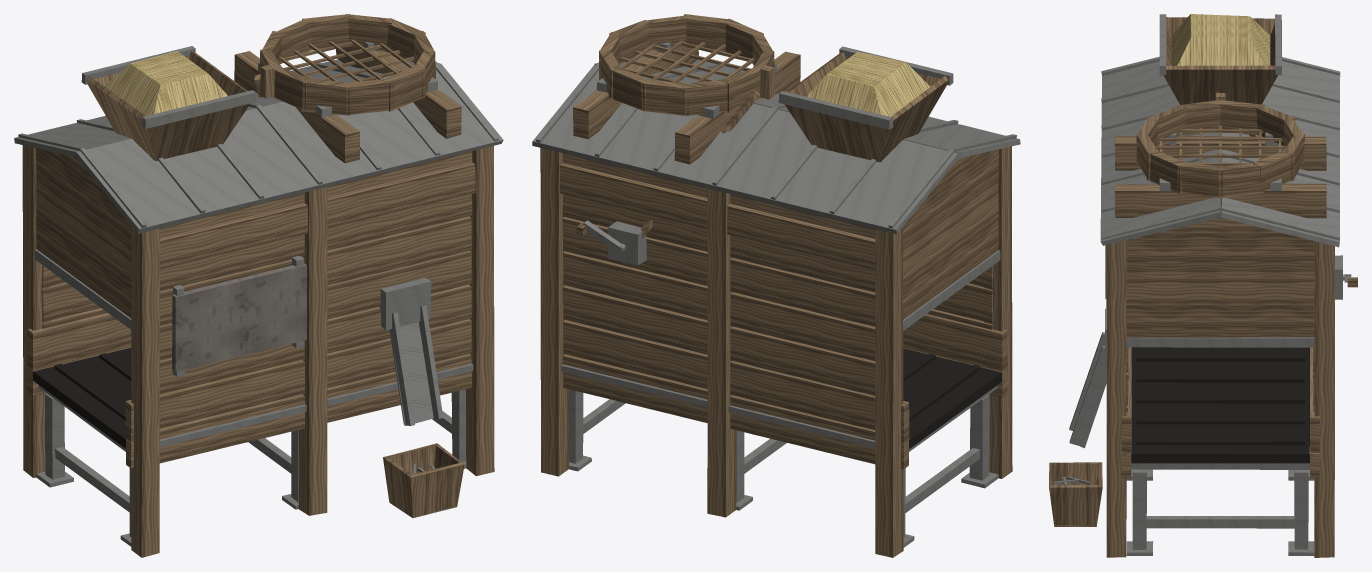
File: hand_sieve.glb
3 renders of one model, left to right at view 1: azimuth 30°, elevation 25°; view 2: azimuth 150°, elevation 25°; view 3: azimuth 270°, elevation 25°, orthographic. The views are drawn at different scales.
Parts seen in each view (by area): view 1: HandSieve, Screen, Sign, Belt; view 2: HandSieve, Screen, Belt; view 3: HandSieve, Belt, Screen, Roller2.
Boxes of the visible parts, x1,y1,x2,y2 form: HandSieve: (14, 41, 503, 557); Screen: (260, 14, 436, 115); Sign: (172, 263, 306, 371); Belt: (33, 348, 131, 448); HandSieve: (532, 42, 1020, 557); Screen: (599, 14, 775, 116); Belt: (903, 348, 1002, 449); HandSieve: (1049, 14, 1357, 557); Belt: (1131, 347, 1309, 463); Screen: (1136, 92, 1304, 198); Roller2: (1131, 463, 1309, 469).
Bounding box in the file's own units: 3.42 × 3.82 × 2.62.
Materials: 5 (4 with a texture image).
